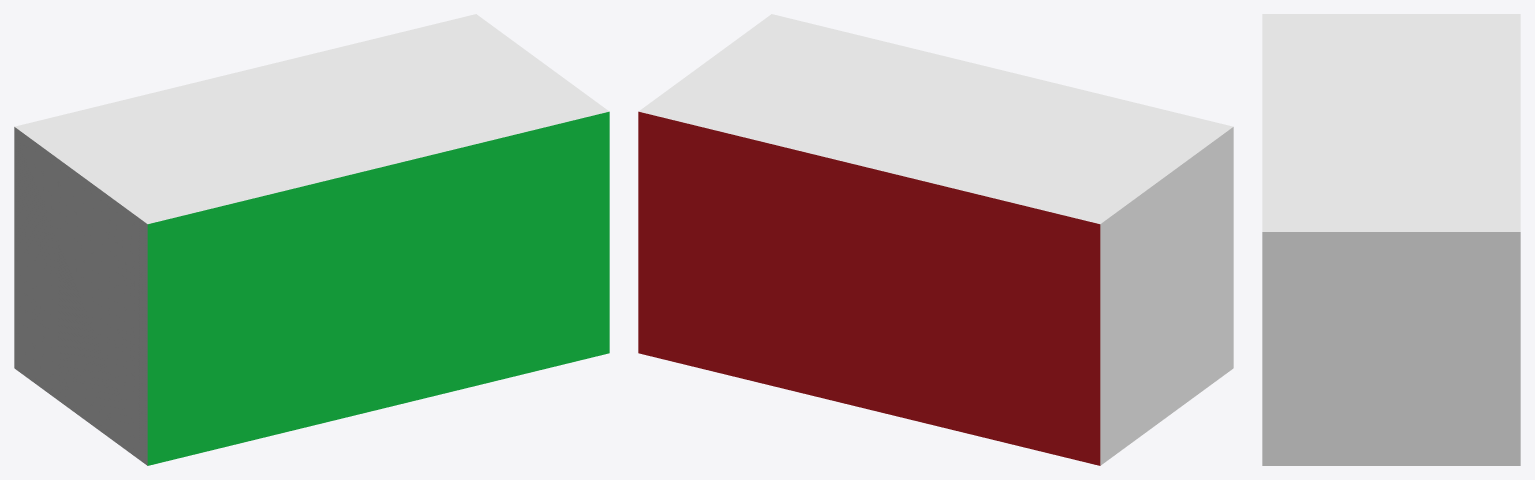
File: CornellBox_Close.gltf
3 views of the same model, side by side, from view 1: azimuth 30°, elevation 25°; view 2: azimuth 150°, elevation 25°; view 3: azimuth 270°, elevation 25° (orthographic). The views are drawn at different scales.
Visible parts, largest first — view 1: Cube; view 2: Cube; view 3: Cube.
Part boxes in pixels (left/top/right/bottom): Cube: left=14, top=14, right=609, bottom=465; Cube: left=638, top=14, right=1233, bottom=465; Cube: left=1262, top=14, right=1520, bottom=465.
Size of the model in its own units: 16 by 8 by 8.
Materials: 1 (1 with a texture image).
